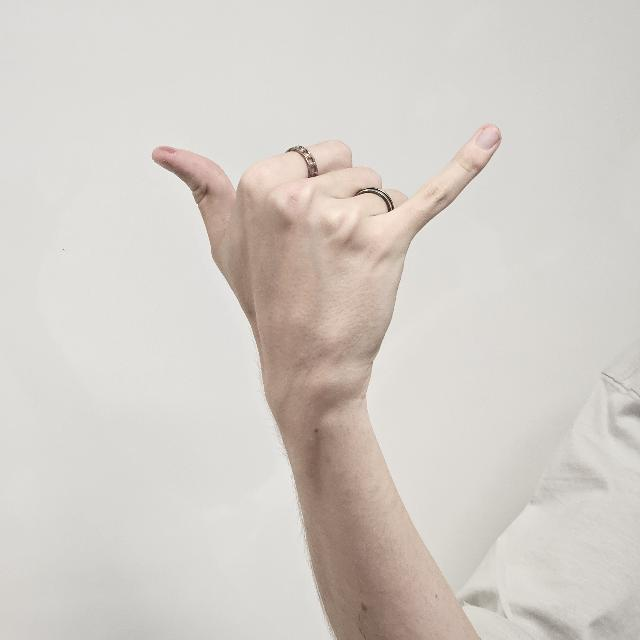Direita: (150, 108, 500, 460)
